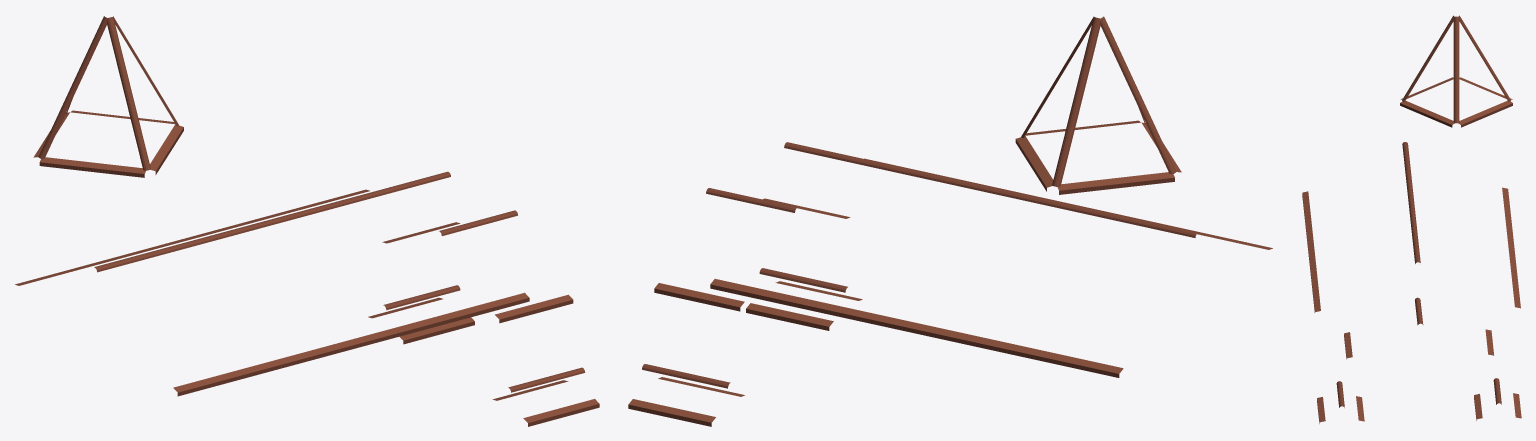
3 views of the same model, side by side, from view 1: azimuth 30°, elevation 25°; view 2: azimuth 150°, elevation 25°; view 3: azimuth 270°, elevation 25° (orthographic). The views are drawn at different scales.
Parts seen in each view (by area): view 1: detail; view 2: detail; view 3: detail.
Part boxes in pixels (x1=…): detail: x1=15, y1=16, x2=599, y2=426; detail: x1=628, y1=16, x2=1272, y2=426; detail: x1=1302, y1=15, x2=1521, y2=423.
Bounding box in the file's own units: 19.07 × 16.41 × 11.55.
